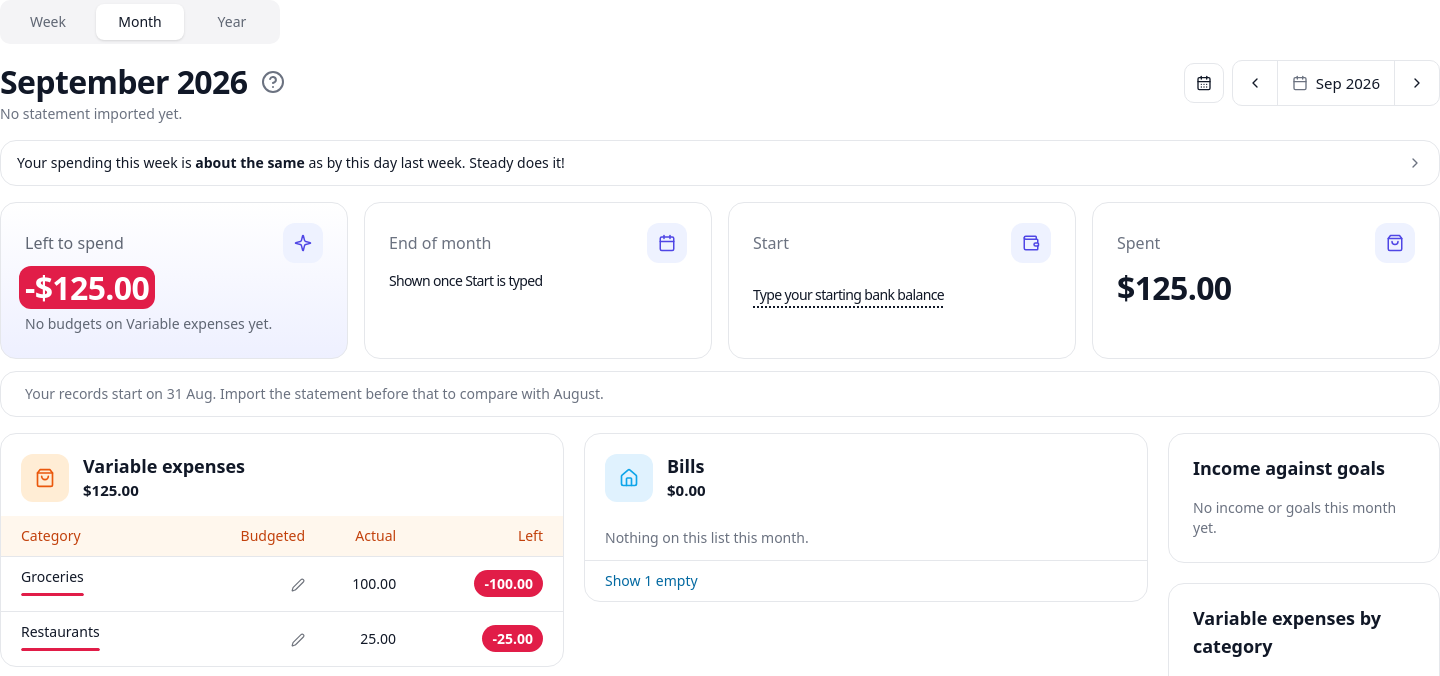
Test: Moving a charge from the Month › moves only this charge when "Always file" is turned off
The image size is (1440, 676).
Expected: the column heading "Groceries" is shown, [1, 556, 182, 611]
Click the button "Groceries" at coordinates (52, 581), box [21, 567, 84, 596]
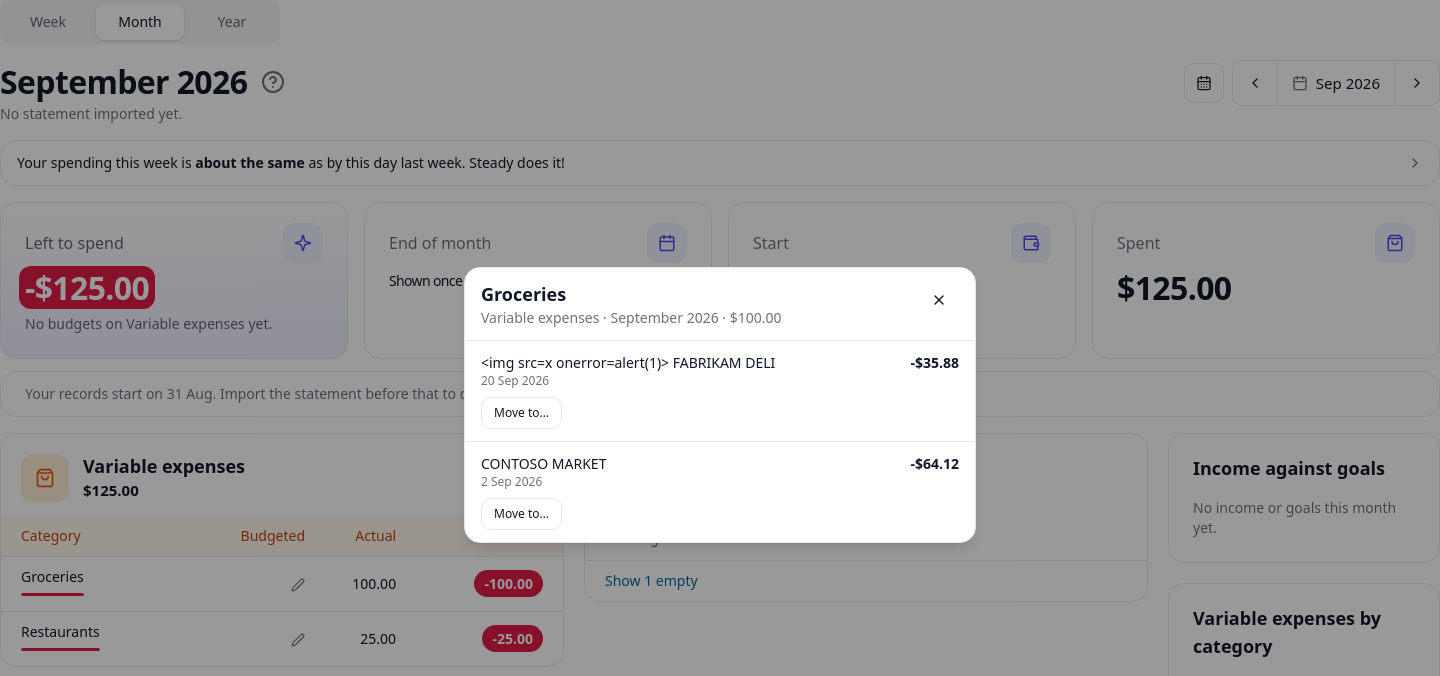
Click the button "Move to…" below "CONTOSO MARKET" at coordinates (522, 514), box [481, 498, 562, 530]
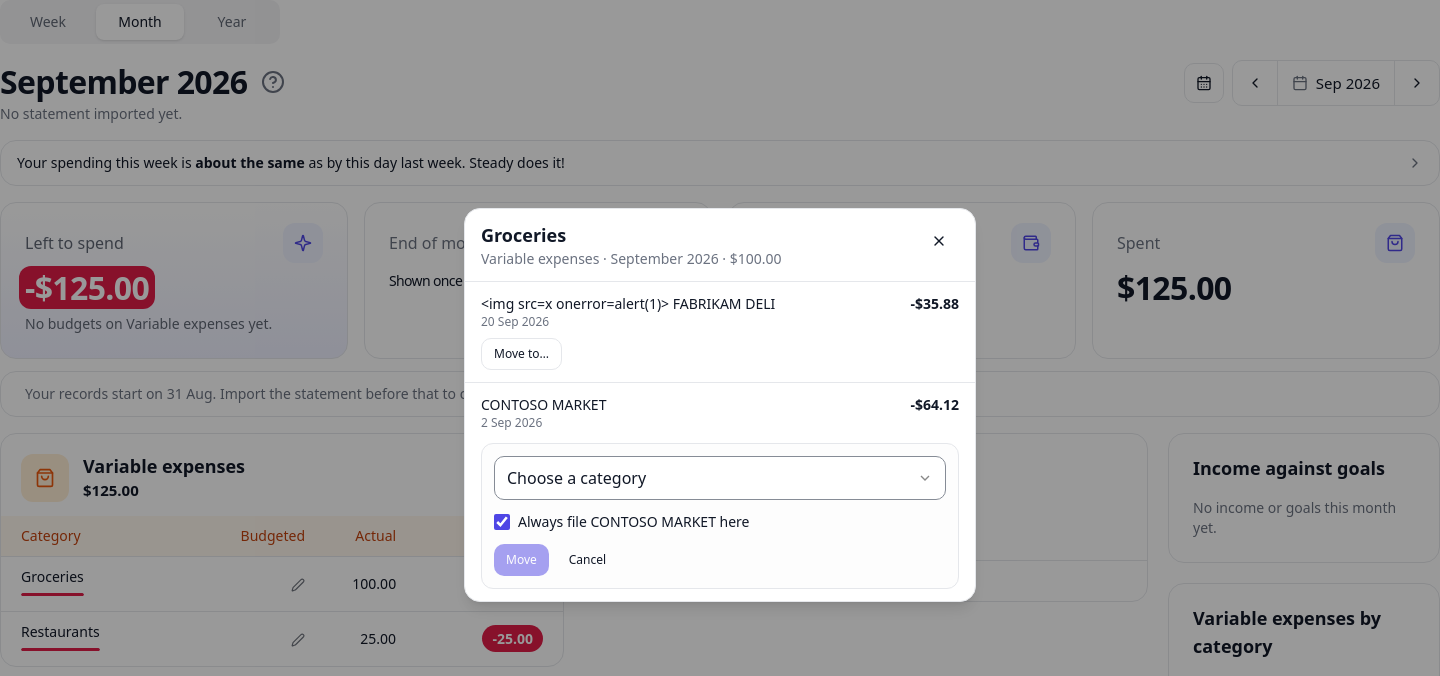
Click the checkbox labelled "Always file CONTOSO MARKET here" at coordinates (502, 522), box [494, 514, 510, 530]
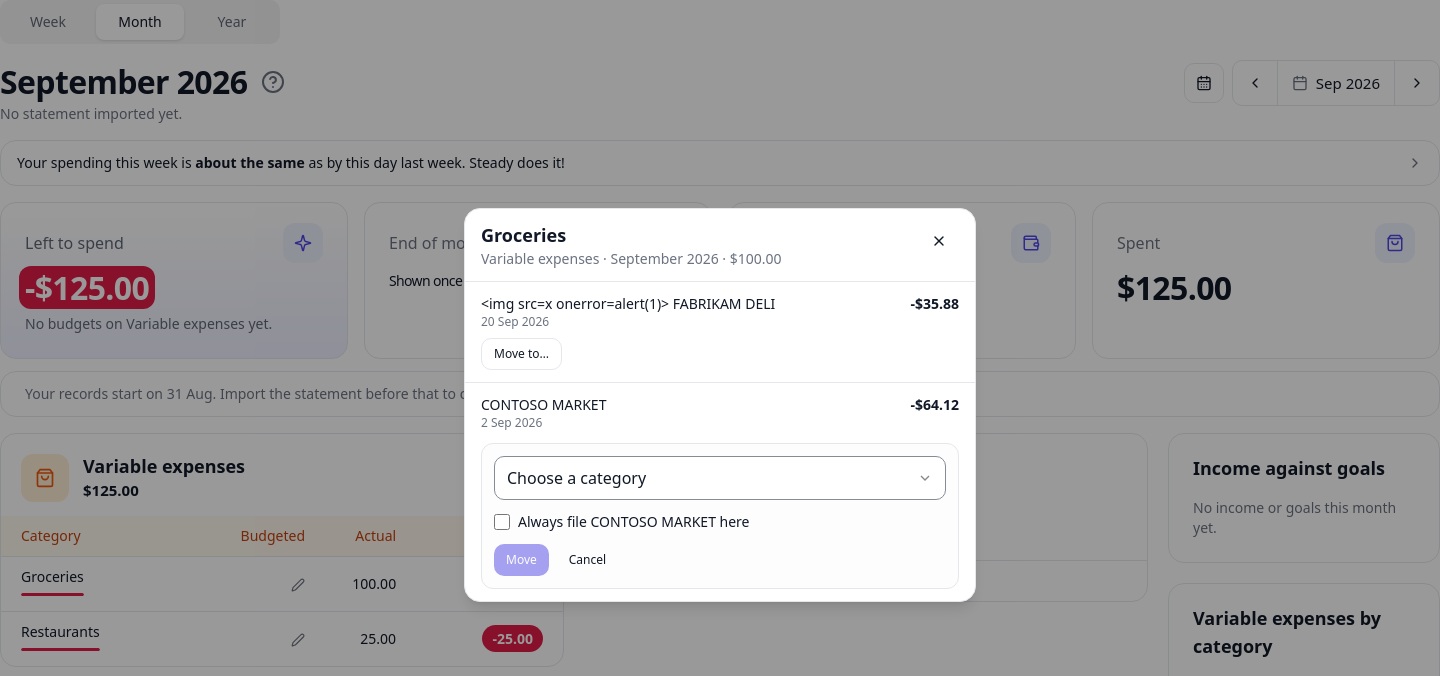
Select "Card payments" in the dropdown named "Move to" at coordinates (720, 478), box [494, 456, 946, 500]
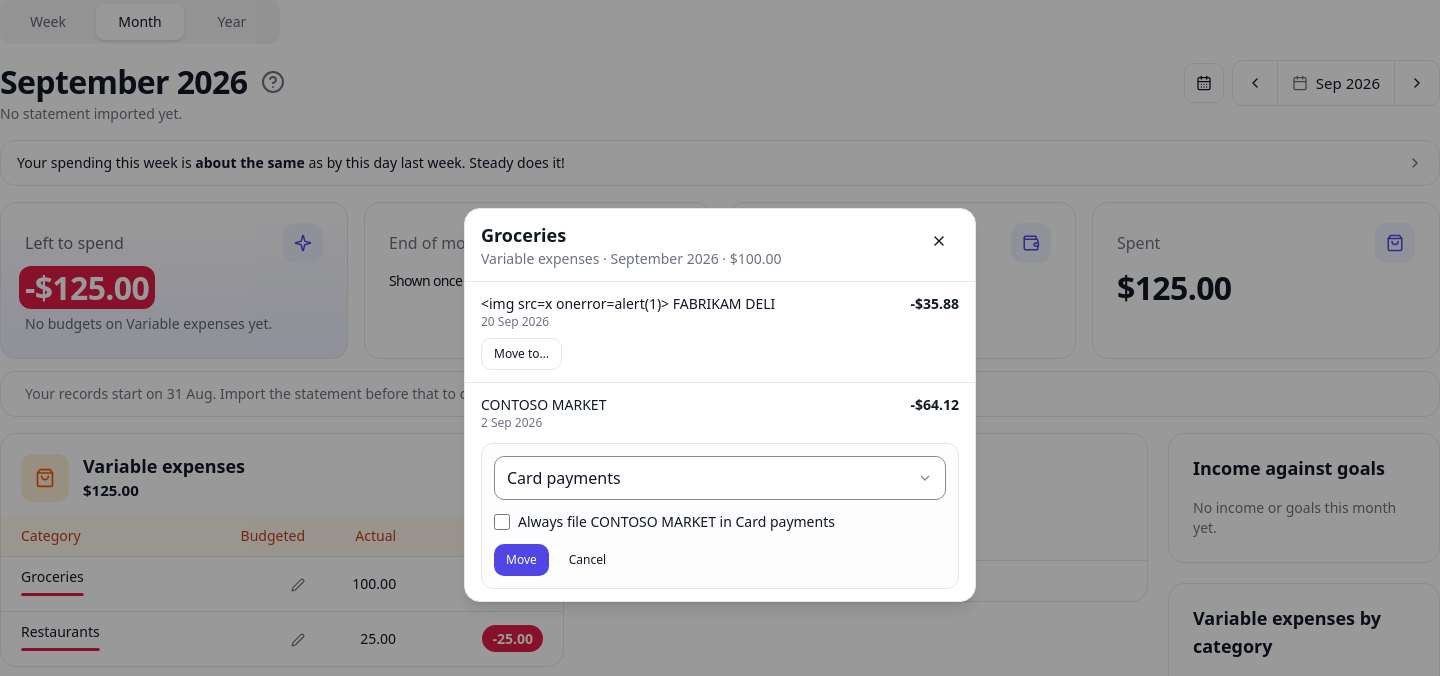
Click the button "Move" at coordinates (521, 560), box [494, 544, 549, 576]
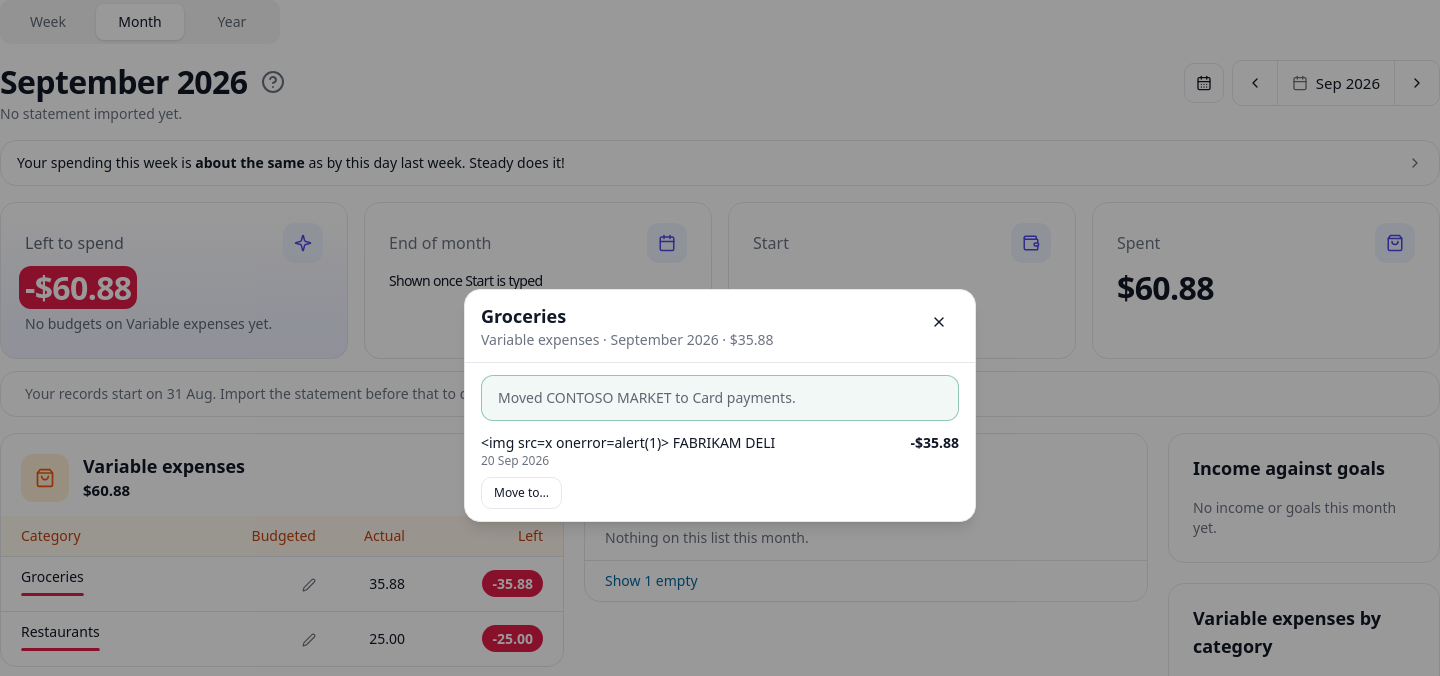
Expected: the message "Moved CONTOSO MARKET to Card payments." is shown, [481, 374, 959, 420]
